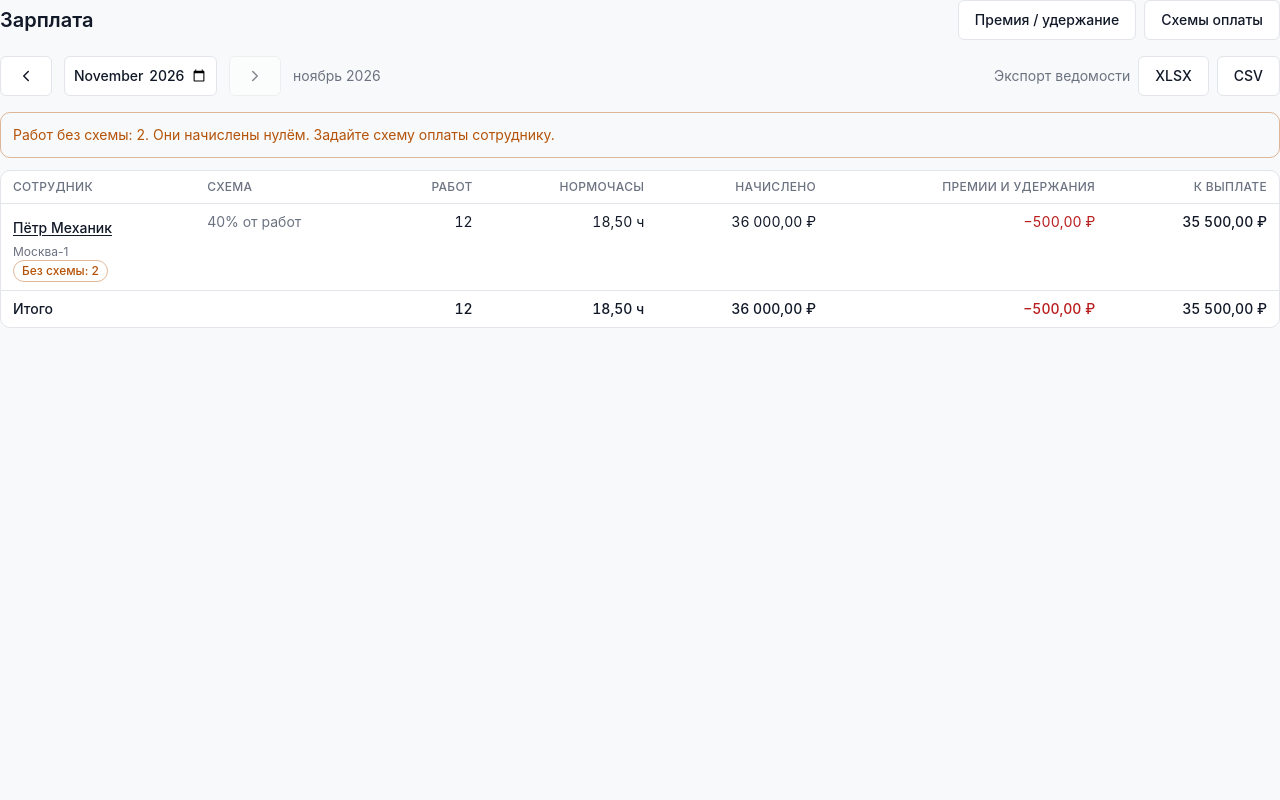
Test: D-03 зарплата › схема оплаты: 409 scheme_overlap объяснён в форме, внутренние детали не показываются
Click the button "Пётр Механик".
click(62, 228)  # box [13,212,112,244]
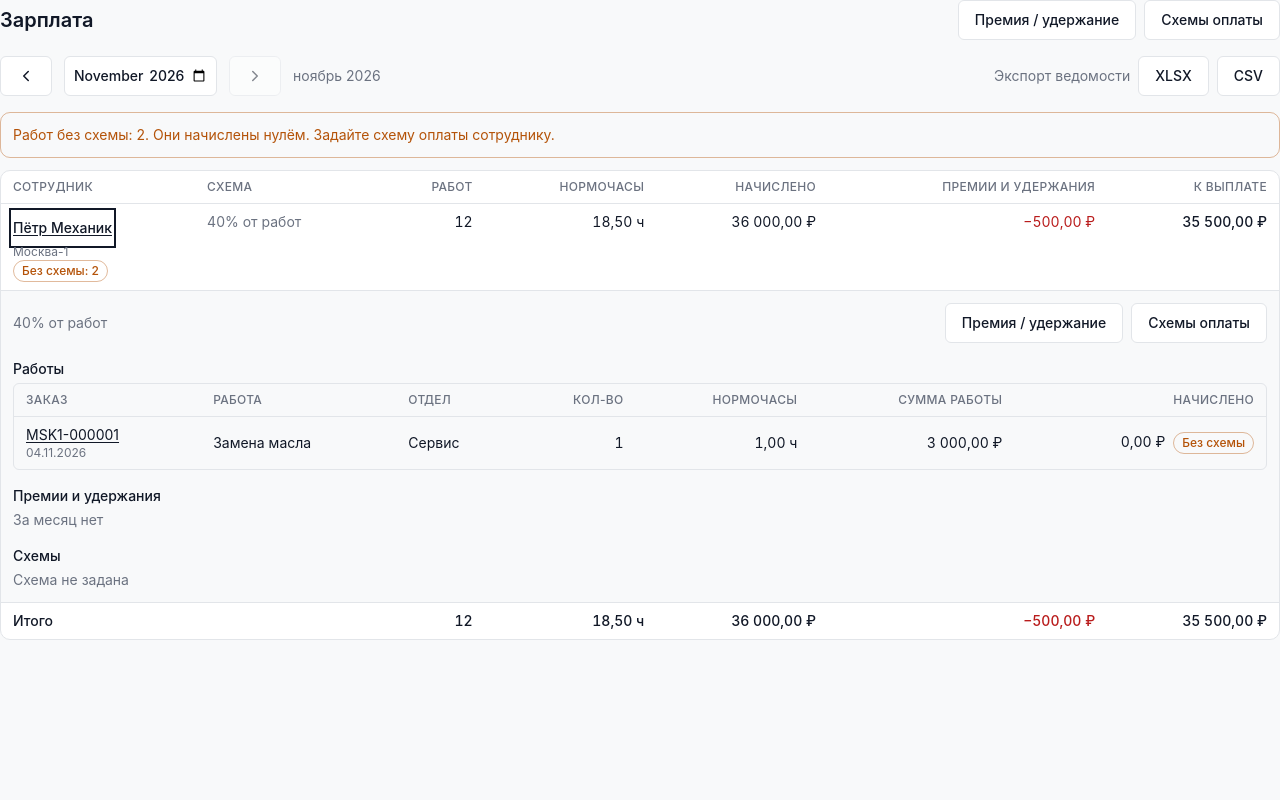
Expected: the link "MSK1-000001" is shown, [26,426,119,443]
Click the 2nd button "Схемы оплаты".
click(1199, 323)  # box [1131,303,1267,343]
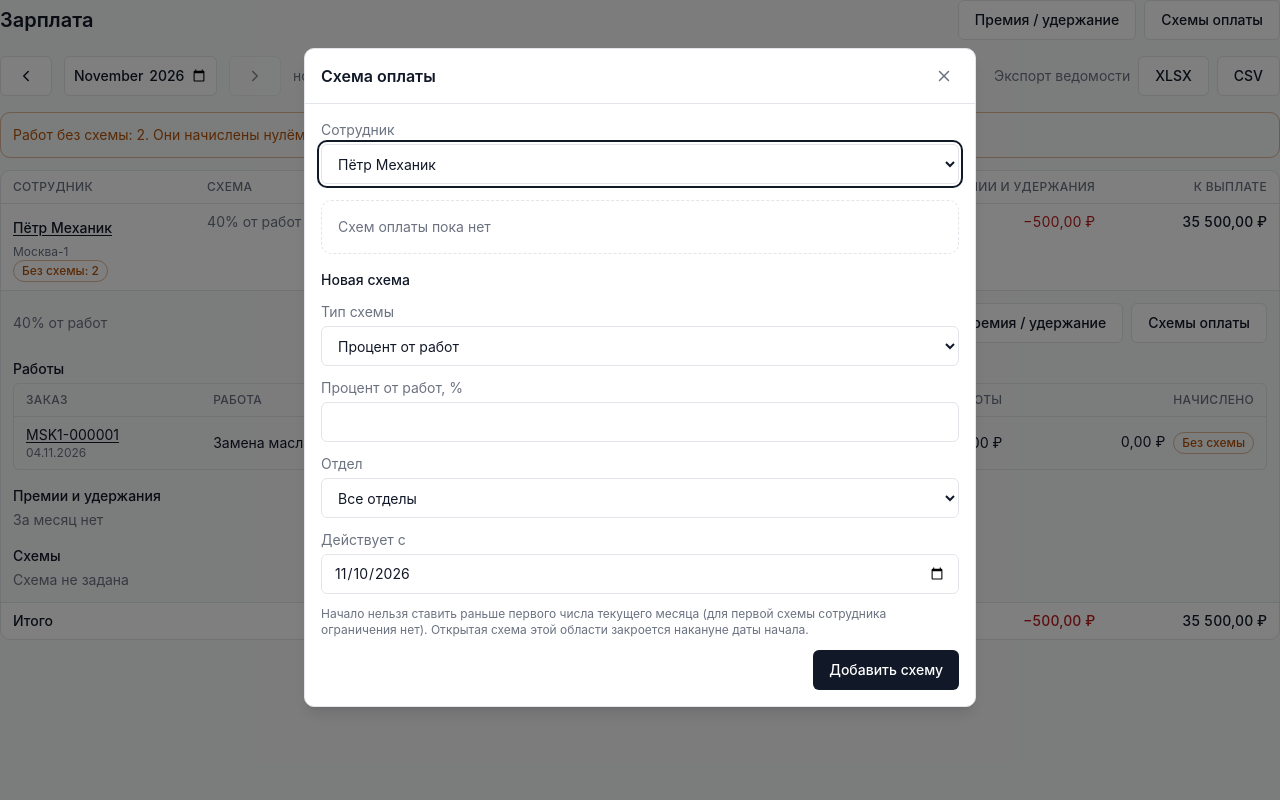
Type "40" into the field labelled "Процент от работ, %".
click(640, 422); type("40")  # box [321,402,959,442]
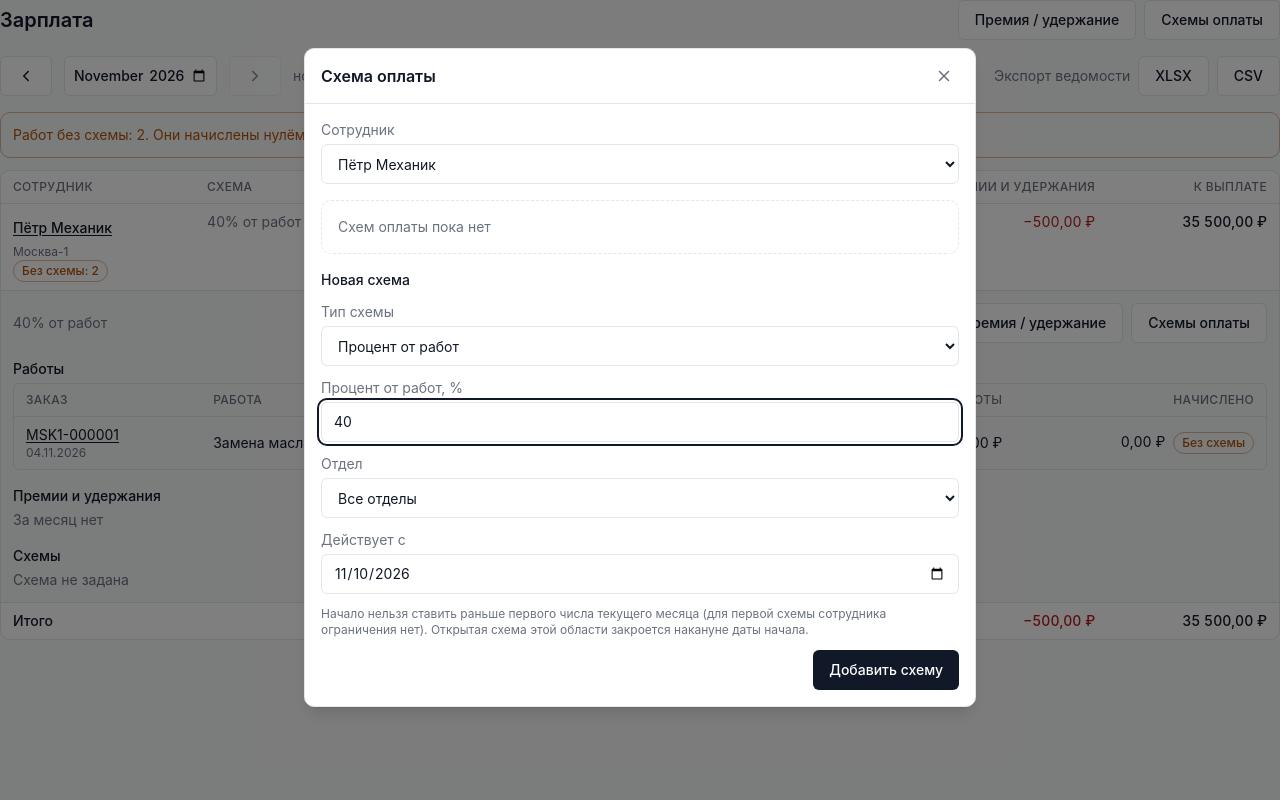
Click the button "Добавить схему".
click(886, 670)  # box [813,650,959,690]
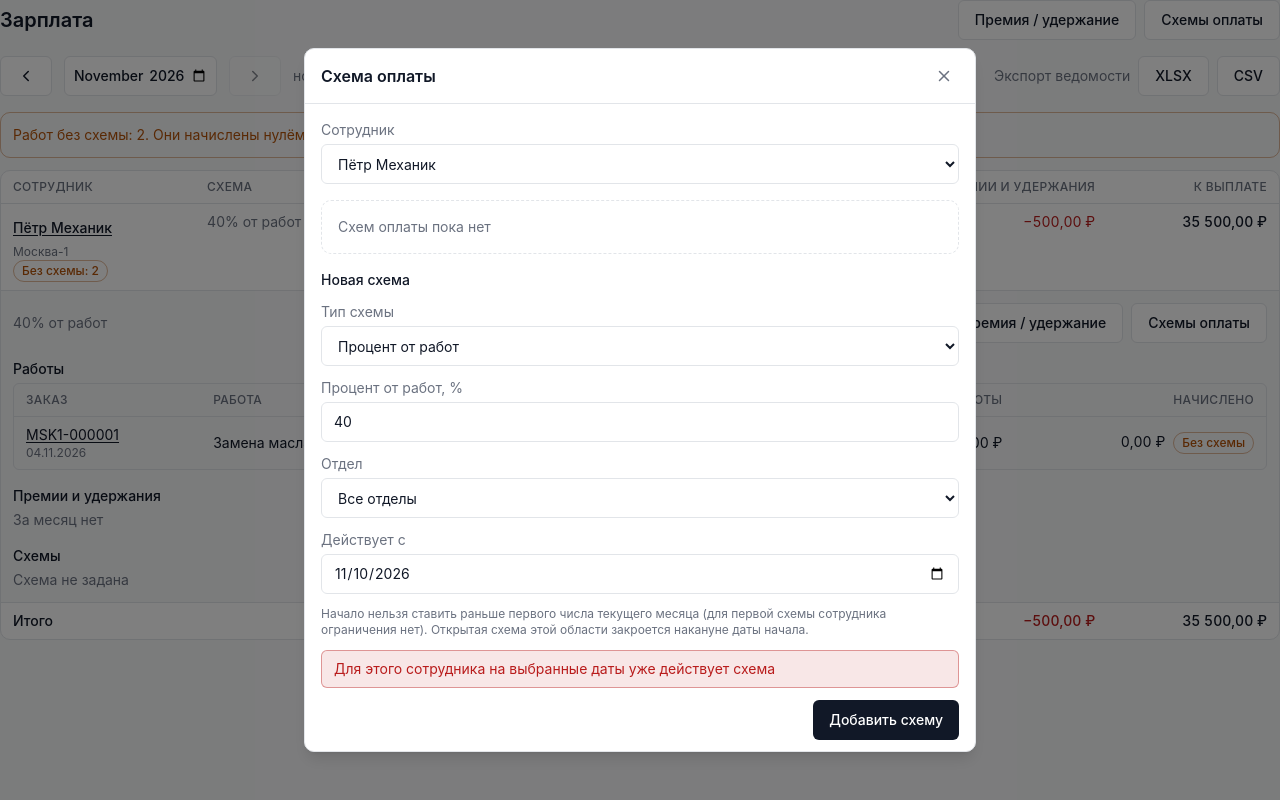
Expected: the text "Для этого сотрудника на выбранные даты уже действует схема" is shown, [321,650,959,688]
